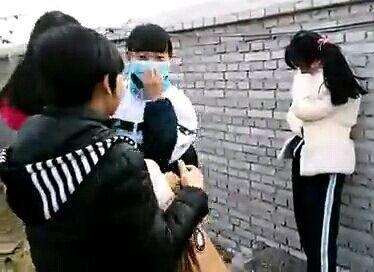face_mask: (132, 46, 165, 84)
